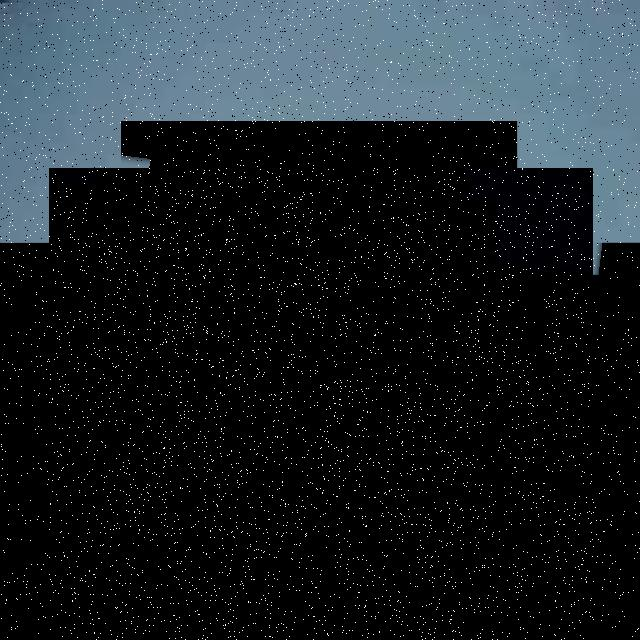dua ribu rupiah: (49, 168, 593, 640)
